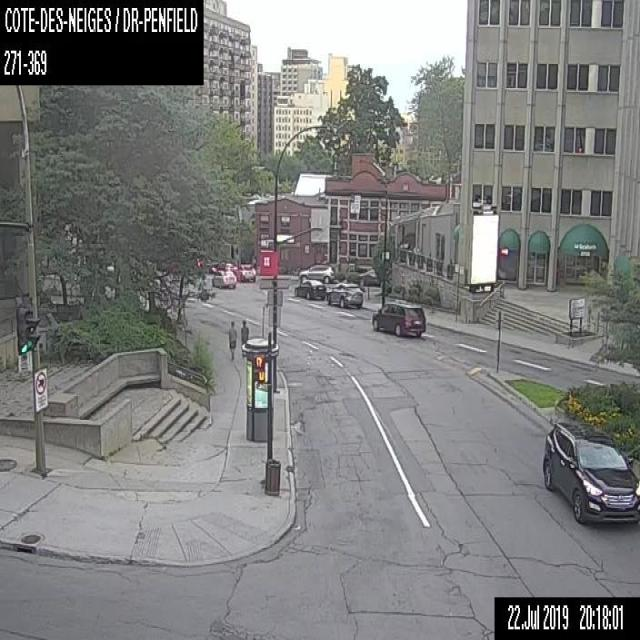pedestrian: (227, 317, 237, 360), (239, 318, 249, 358)
vehicle: (542, 420, 639, 524), (371, 302, 426, 336), (325, 280, 363, 308), (298, 263, 334, 282), (294, 278, 324, 300), (356, 266, 381, 285), (211, 269, 236, 288), (236, 263, 255, 281), (217, 260, 237, 270)
